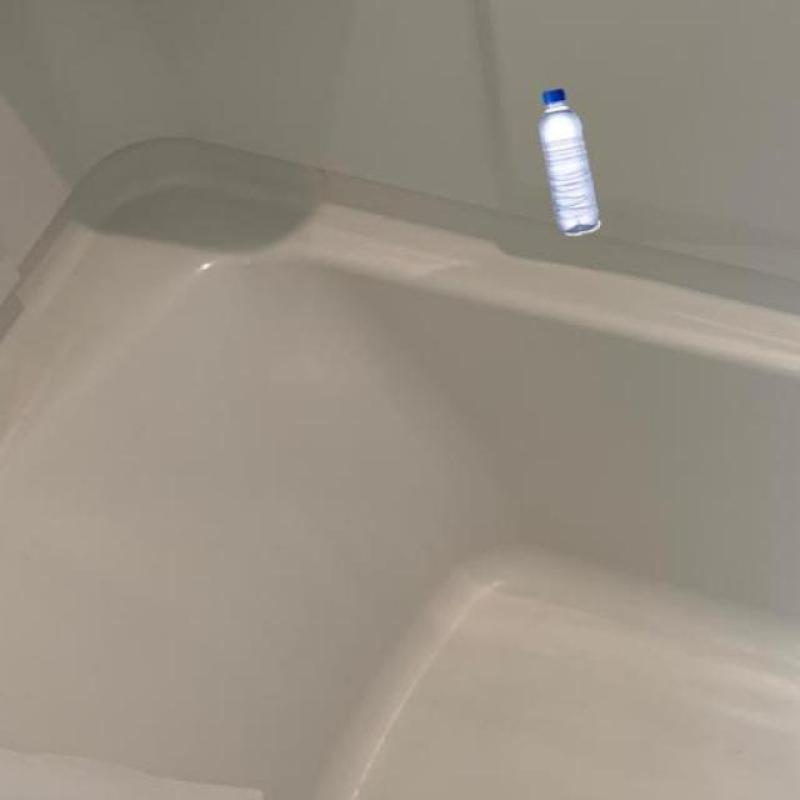botella: (536, 89, 604, 234)
